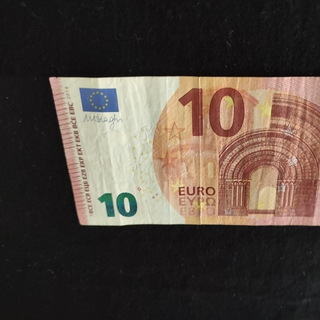10EUROFront: (48, 75, 320, 226)
